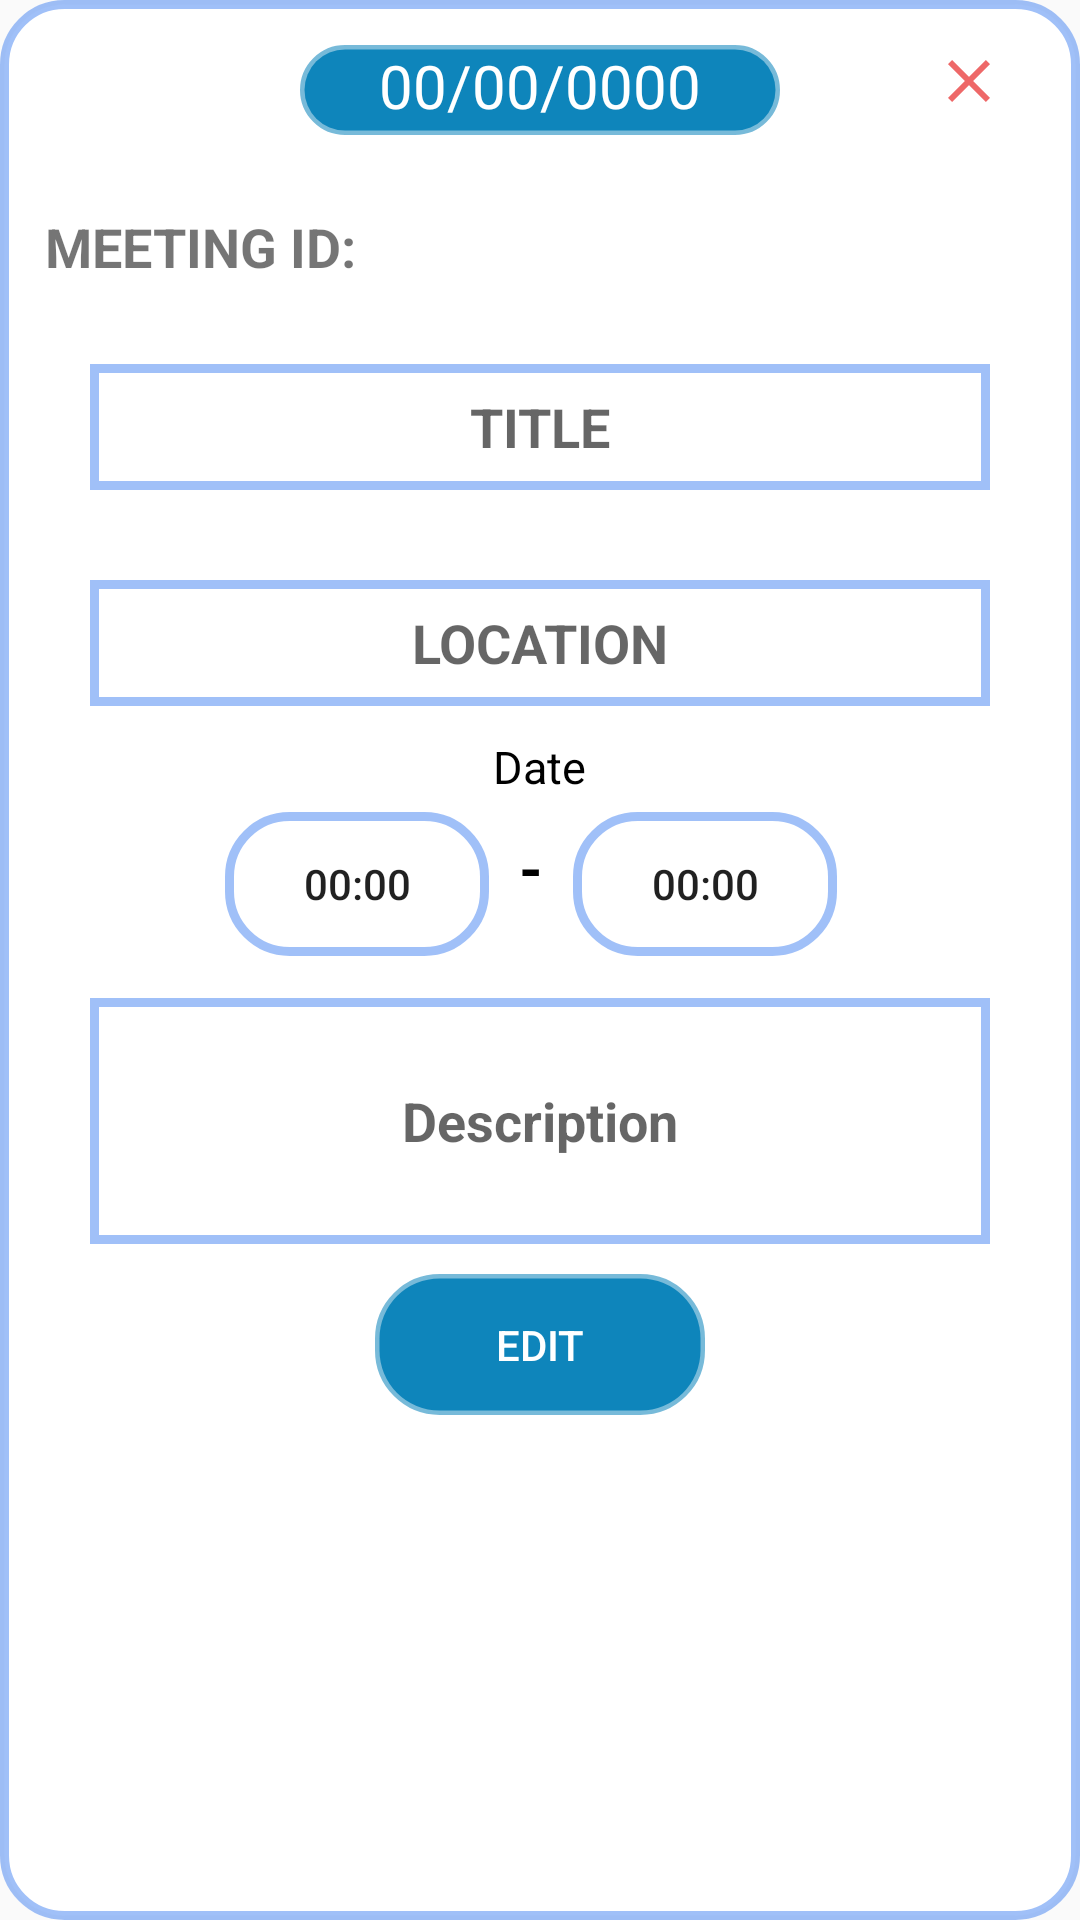

Where to tap for icons on this 1080x1920 app screen, as point (x, y):
close: point (969, 81)
